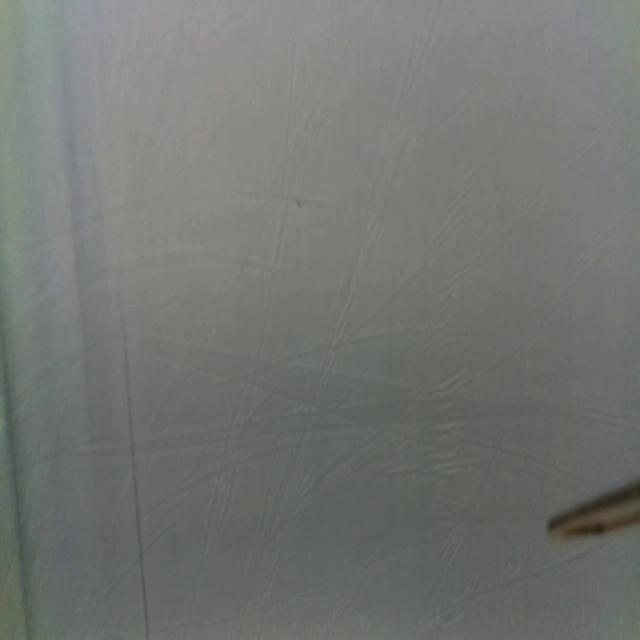crease: (121, 327, 152, 636)
hole: (293, 196, 303, 215)
